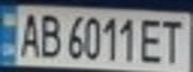0: (81, 14, 103, 61)
1: (118, 14, 139, 62), (100, 14, 121, 62)
6: (63, 11, 84, 61)
A: (15, 9, 42, 58)
B: (36, 10, 63, 60)
E: (136, 16, 166, 64)
T: (157, 16, 190, 65)
